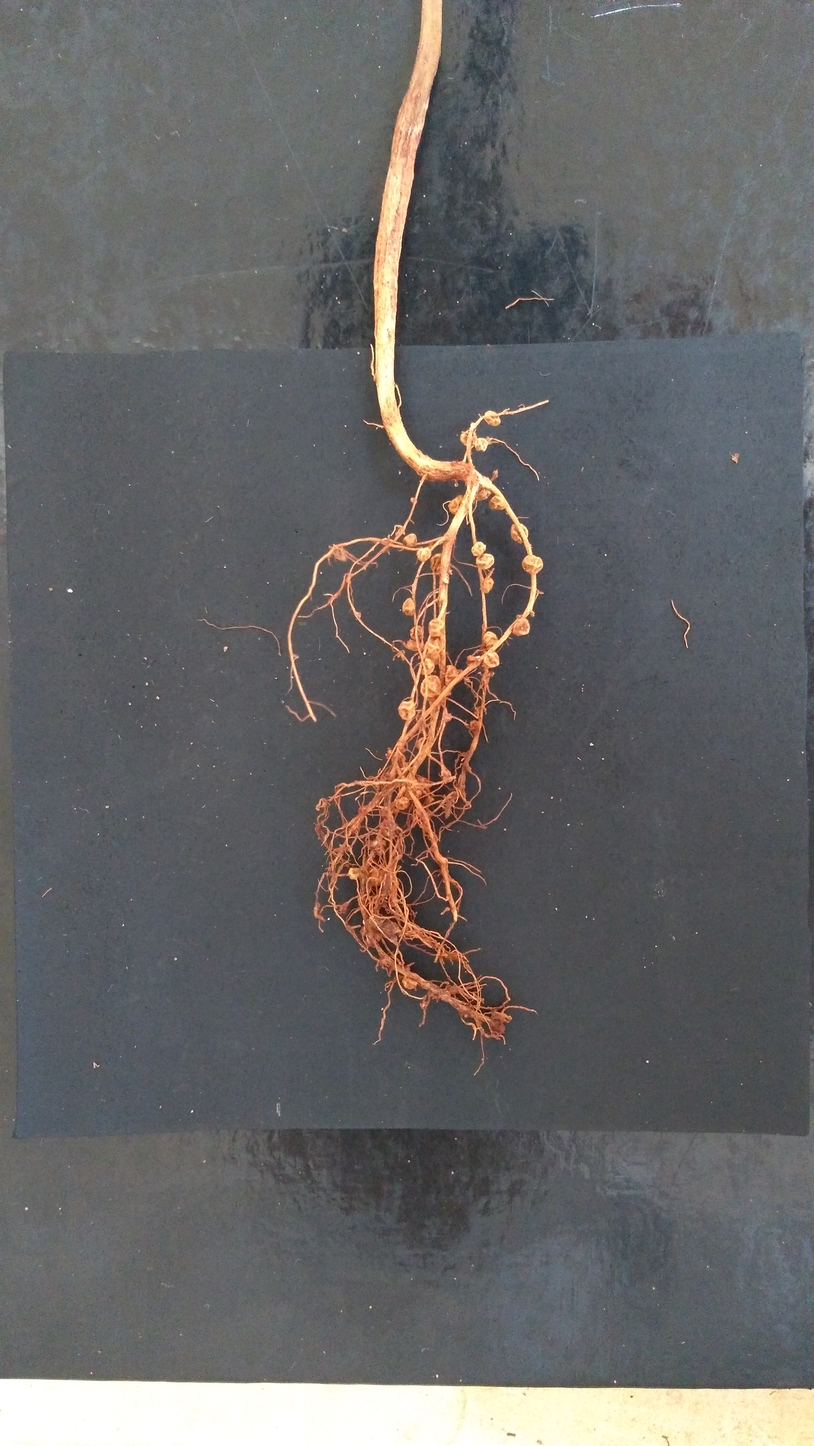nodule: (420, 675, 441, 701), (398, 697, 416, 721), (522, 554, 543, 574), (427, 637, 442, 665), (367, 866, 387, 887), (489, 1011, 506, 1034), (510, 523, 529, 543), (449, 494, 467, 515), (364, 928, 383, 947), (379, 818, 398, 837), (382, 918, 402, 936), (428, 617, 445, 638), (444, 665, 460, 687), (429, 553, 444, 575), (512, 618, 530, 636), (460, 429, 477, 448), (476, 553, 495, 570), (482, 631, 498, 651), (476, 483, 493, 501), (484, 410, 501, 427), (488, 495, 506, 511), (332, 545, 348, 563), (405, 638, 425, 652), (483, 651, 499, 668), (367, 913, 386, 927), (421, 658, 435, 676), (402, 597, 415, 616), (402, 976, 419, 990), (405, 787, 423, 800), (402, 533, 417, 548), (471, 541, 486, 556), (481, 577, 494, 594), (417, 548, 432, 562), (409, 625, 423, 640), (474, 438, 488, 452), (395, 797, 409, 810), (377, 953, 390, 967), (469, 720, 481, 735), (466, 655, 479, 668), (348, 867, 361, 880), (385, 747, 395, 760), (375, 844, 385, 856), (357, 804, 369, 814), (443, 712, 453, 722), (369, 839, 377, 848), (315, 803, 321, 811), (410, 497, 417, 503)
